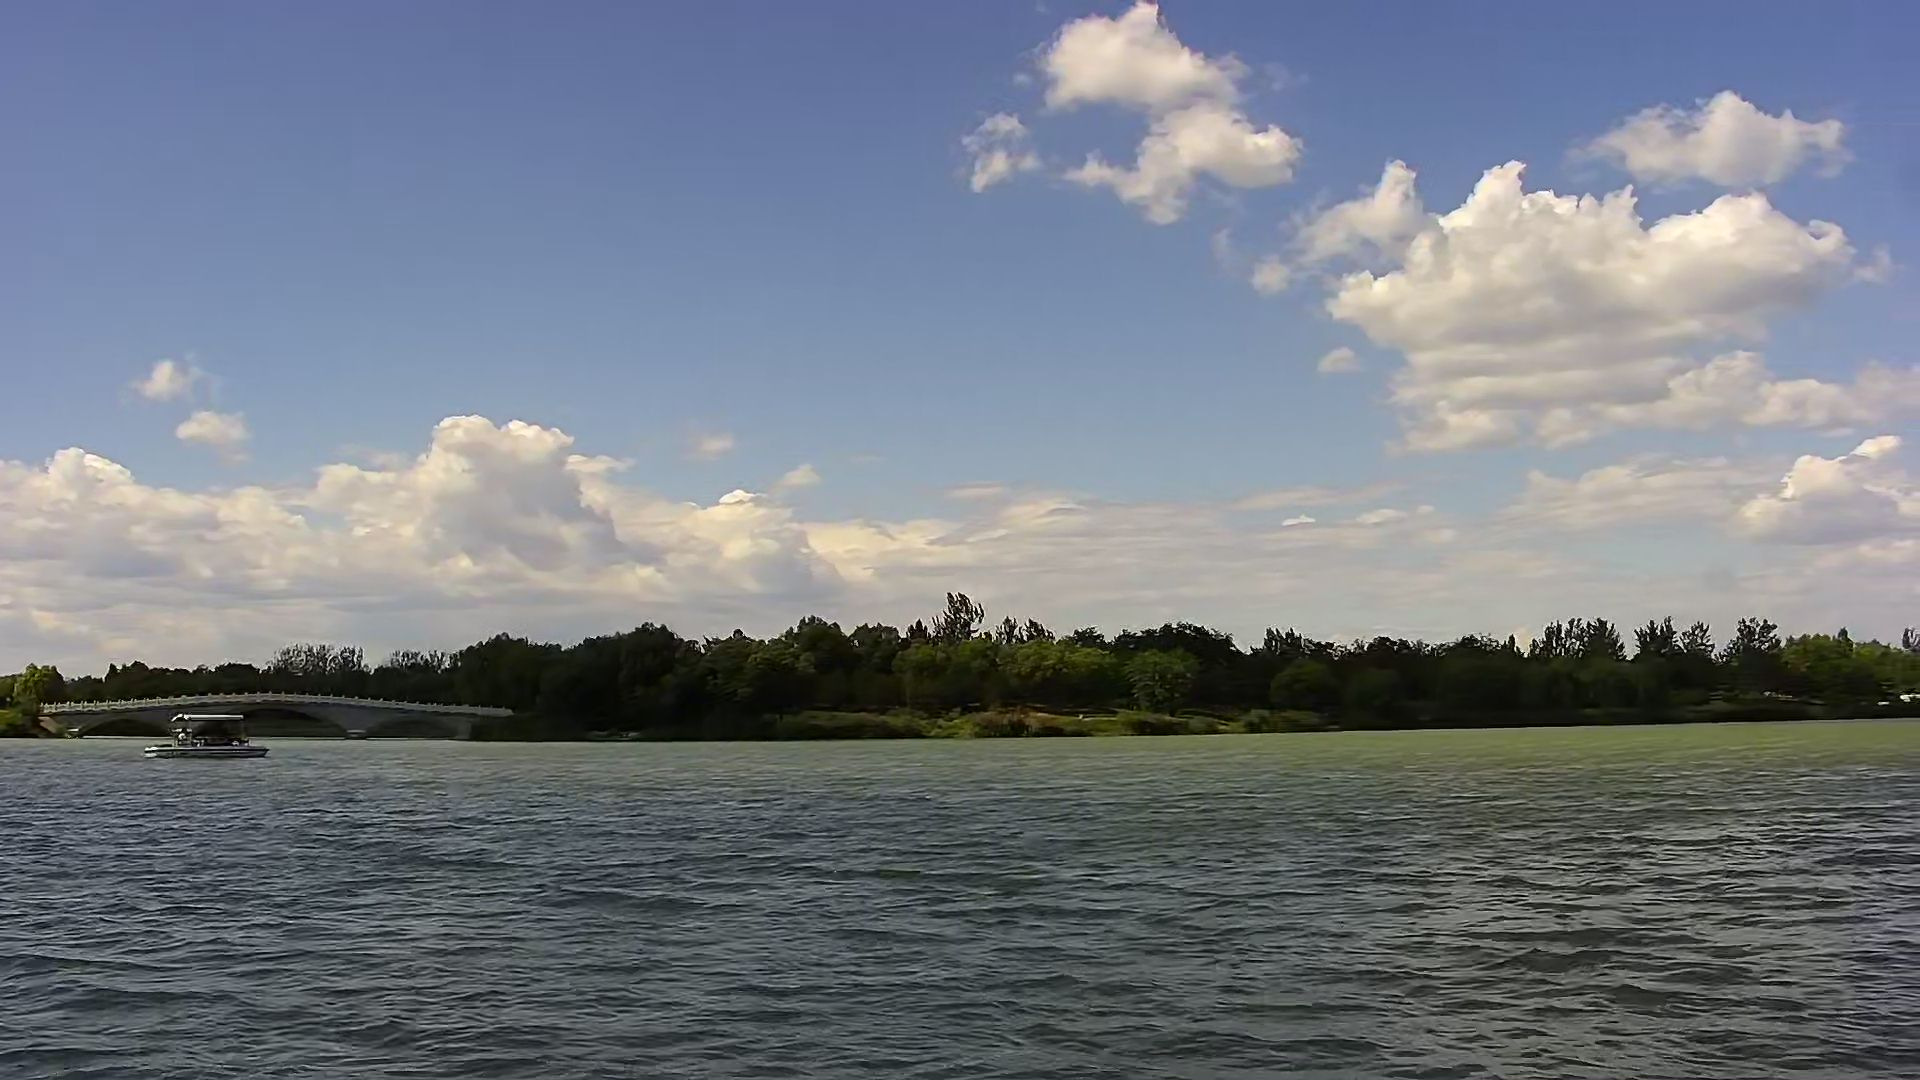boat: (138, 713, 280, 764)
bridge: (41, 694, 533, 753)
